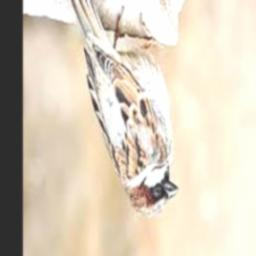Sparrow: (63, 0, 180, 219)
